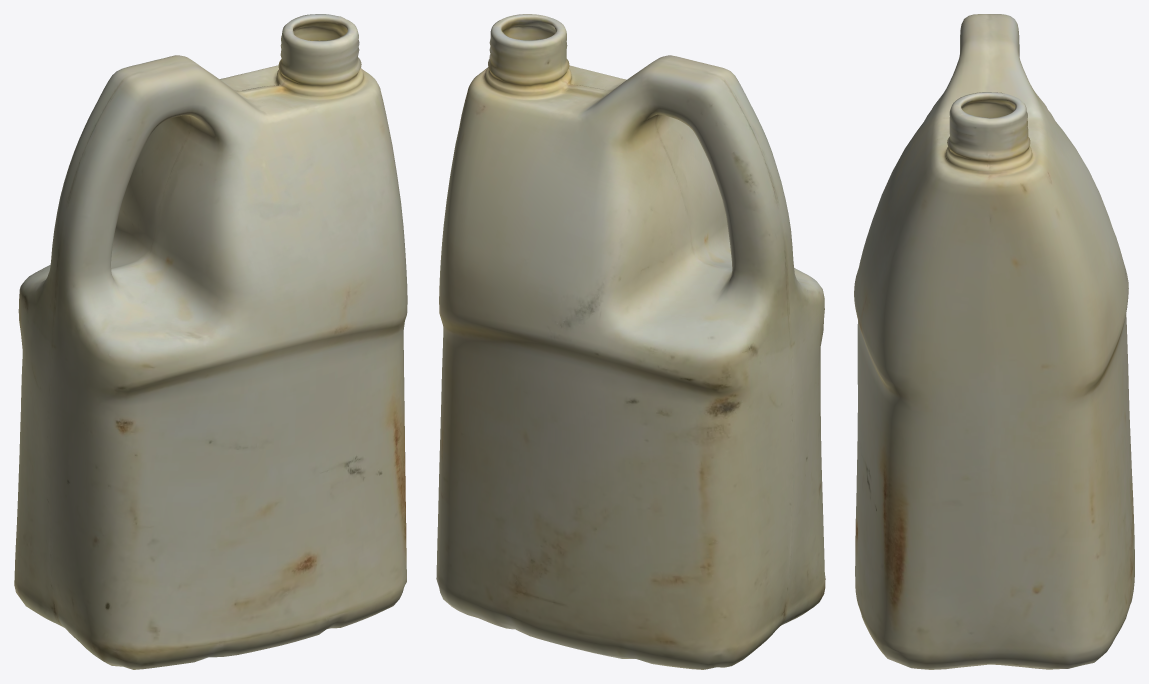
File: plastic_bottle_gallon.63e82ed32c.glb
3 renders of one model, left to right at view 1: azimuth 30°, elevation 25°; view 2: azimuth 150°, elevation 25°; view 3: azimuth 270°, elevation 25°, orthographic.
Visible parts, largest first — view 1: plastic_bottle_gallon; view 2: plastic_bottle_gallon; view 3: plastic_bottle_gallon.
Part boxes in pixels (left/top/right/bottom): plastic_bottle_gallon: left=14, top=14, right=407, bottom=669; plastic_bottle_gallon: left=436, top=14, right=825, bottom=669; plastic_bottle_gallon: left=854, top=14, right=1134, bottom=669.
Bounding box in the file's own units: 0.1663 × 0.2745 × 0.1263.
Materials: 1 (1 with a texture image).
